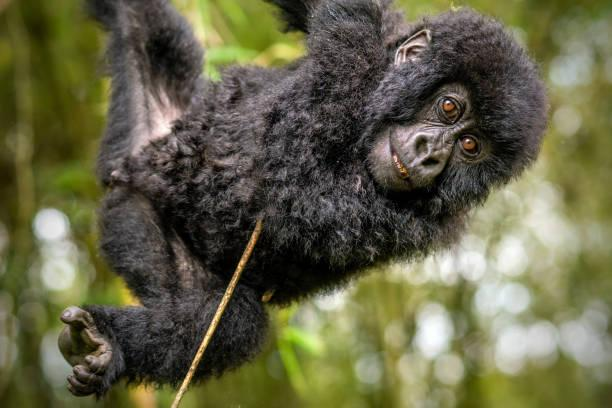goriile_montagne: (68, 1, 548, 381)
